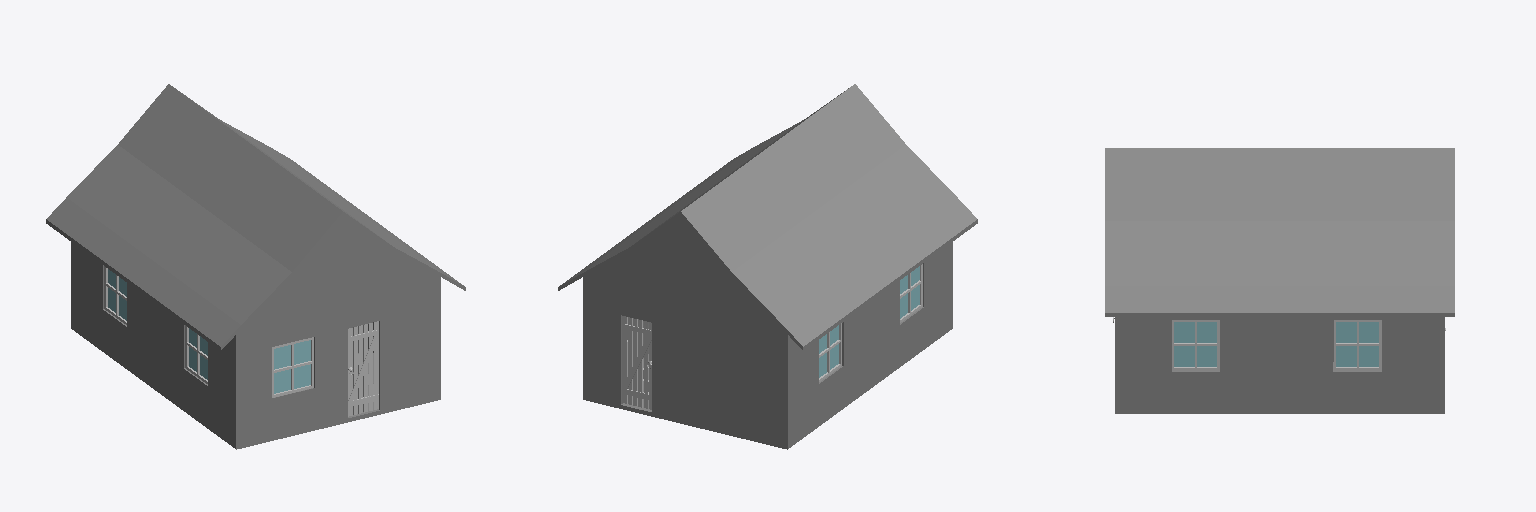
File: MedievalHouse1.obj
3 renders of one model, left to right at view 1: azimuth 30°, elevation 25°; view 2: azimuth 150°, elevation 25°; view 3: azimuth 270°, elevation 25°, orthographic.
Parts seen in each view (by area): view 1: MedievalHouse; view 2: MedievalHouse; view 3: MedievalHouse.
Boxes of the visible parts, <box> form: MedievalHouse: <box>46,84,465,449</box>; MedievalHouse: <box>558,84,977,449</box>; MedievalHouse: <box>1105,148,1454,413</box>.
Bounding box in the file's own units: 600 × 507 × 740.